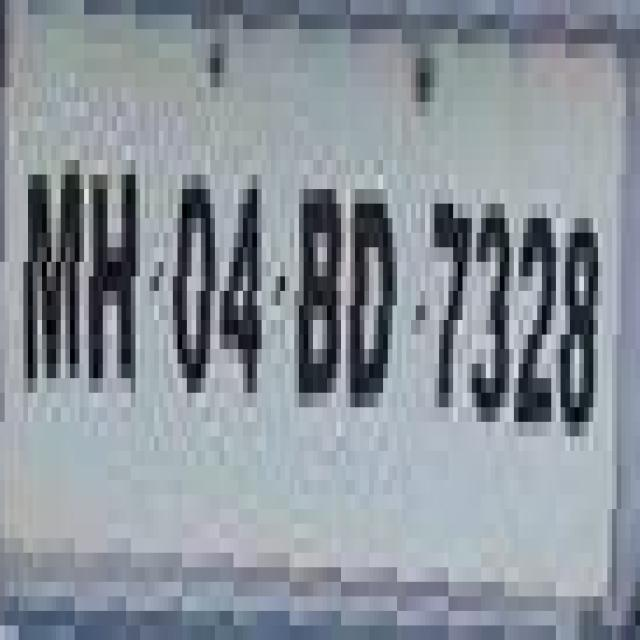license_plate: (0, 14, 612, 611)
